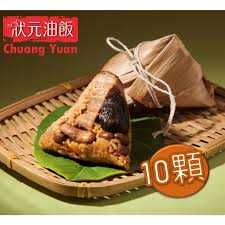zongzi: (102, 34, 215, 132), (39, 71, 131, 168)
